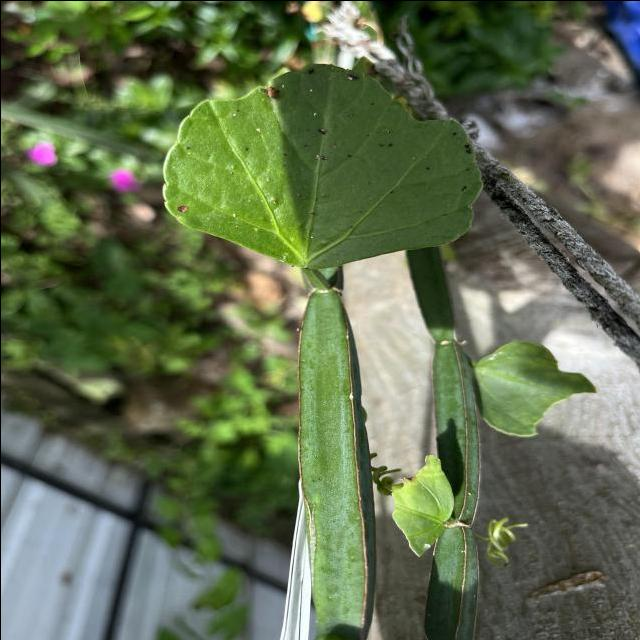Cissus quadrangularis: (155, 61, 488, 272)
